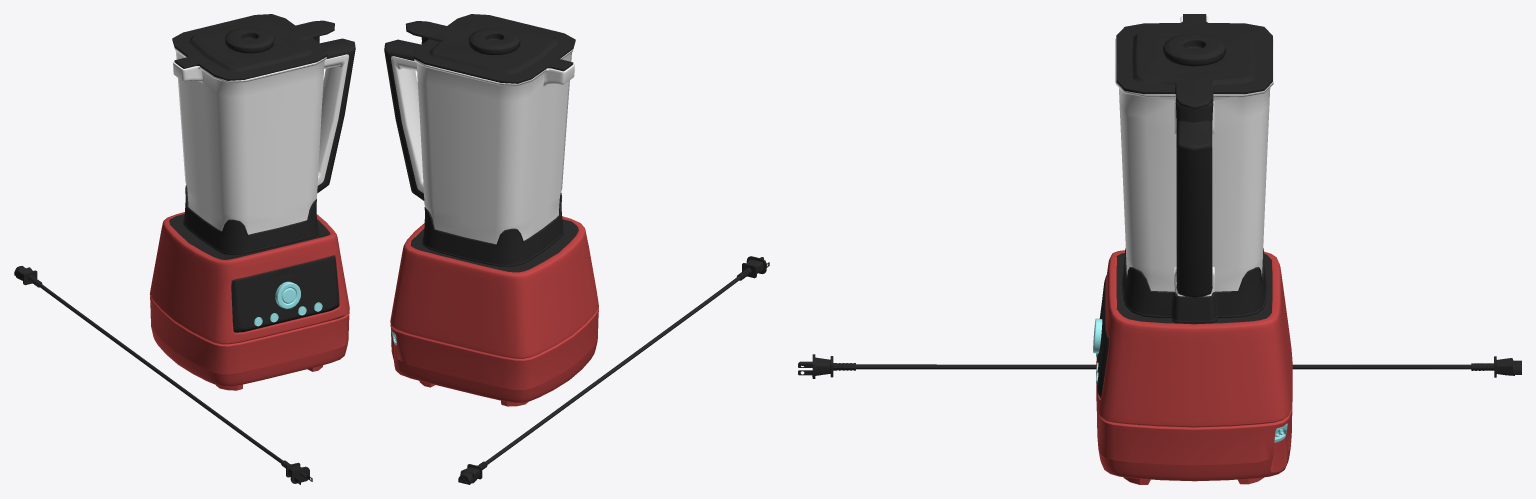
The model's file is mixer grinder.fbx.
The picture shows the model from 3 angles, left to right: view 1: azimuth 30°, elevation 25°; view 2: azimuth 150°, elevation 25°; view 3: azimuth 270°, elevation 25°; orthographic projection. The views are drawn at different scales.
Visible parts, largest first — view 1: Blender_Jug_Glass, Blender_Engine_Casing, Blender_Jug_Top, Blender_Engine_Indicator_Interface, Blender_Jug_Base_Bottom, Blender_Engine_Casing.001, Blender_Jug_Hand_Attachment, Blender_Wire, Blender_Jug_Top_Part, Blender_Engine_Top, Blender_Engine_Knub, Blender_Wall_Plug_Rubber (+1 smaller); view 2: Blender_Jug_Glass, Blender_Engine_Casing, Blender_Jug_Top, Blender_Jug_Base_Bottom, Blender_Engine_Casing.001, Blender_Jug_Hand_Attachment, Blender_Wire, Blender_Engine_Top, Blender_Jug_Top_Part, Blender_Wall_Plug_Rubber, Blender_Socket_Plug; view 3: Blender_Engine_Casing, Blender_Jug_Glass, Blender_Jug_Top, Blender_Jug_Hand_Attachment, Blender_Jug_Base_Bottom, Blender_Engine_Casing.001, Blender_Wire, Blender_Jug_Top_Part, Blender_Engine_Top.
Part boxes in pixels (<box>): Blender_Jug_Glass: <box>173,44,349,234</box>; Blender_Engine_Casing: <box>149,212,349,374</box>; Blender_Jug_Top: <box>172,14,334,80</box>; Blender_Engine_Indicator_Interface: <box>231,256,339,332</box>; Blender_Jug_Base_Bottom: <box>183,185,318,254</box>; Blender_Engine_Casing.001: <box>151,327,347,390</box>; Blender_Jug_Hand_Attachment: <box>317,38,355,192</box>; Blender_Wire: <box>38,283,282,463</box>; Blender_Jug_Top_Part: <box>225,27,274,53</box>; Blender_Engine_Top: <box>169,214,329,259</box>; Blender_Engine_Knub: <box>275,281,300,308</box>; Blender_Wall_Plug_Rubber: <box>281,460,309,483</box>; Blender_Jug_Glass: <box>391,46,574,244</box>; Blender_Engine_Casing: <box>390,216,598,389</box>; Blender_Jug_Top: <box>405,14,575,83</box>; Blender_Jug_Base_Bottom: <box>422,192,563,266</box>; Blender_Engine_Casing.001: <box>395,341,597,406</box>; Blender_Jug_Hand_Attachment: <box>384,39,424,200</box>; Blender_Wire: <box>485,276,740,464</box>; Blender_Engine_Top: <box>410,219,578,272</box>; Blender_Jug_Top_Part: <box>469,28,520,54</box>; Blender_Wall_Plug_Rubber: <box>737,256,766,280</box>; Blender_Socket_Plug: <box>458,461,487,484</box>; Blender_Engine_Casing: <box>1096,250,1292,472</box>; Blender_Jug_Glass: <box>1115,16,1273,296</box>; Blender_Jug_Top: <box>1116,14,1272,109</box>; Blender_Jug_Hand_Attachment: <box>1175,98,1213,297</box>; Blender_Jug_Base_Bottom: <box>1121,248,1267,323</box>; Blender_Engine_Casing.001: <box>1098,448,1290,484</box>; Blender_Wire: <box>856,364,1471,369</box>; Blender_Jug_Top_Part: <box>1163,33,1225,66</box>; Blender_Engine_Top: <box>1116,253,1272,324</box>.
Bounding box in the file's own units: 35.91 × 51.95 × 83.15.
